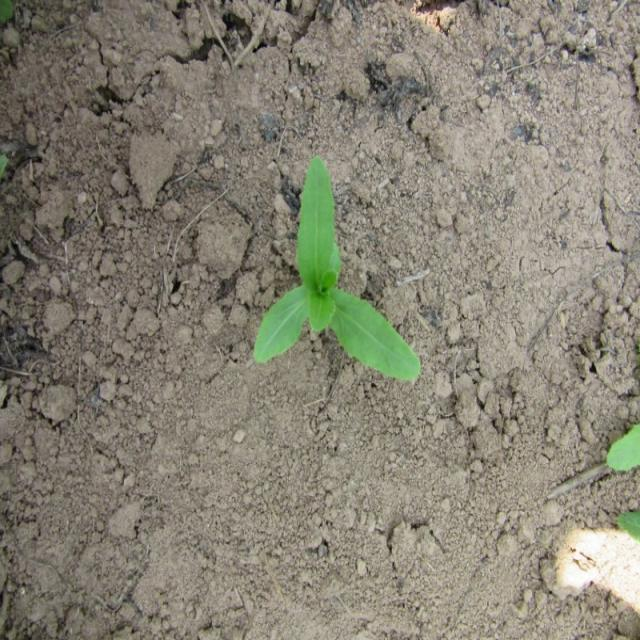cs: (251, 150, 422, 391)
